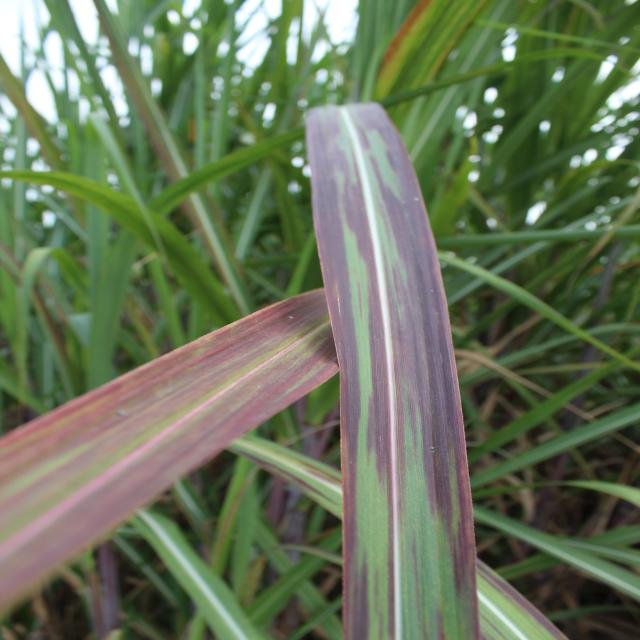Sugarcane: (17, 6, 189, 630), (309, 112, 477, 640), (214, 428, 626, 638), (429, 4, 638, 353), (163, 5, 325, 299), (3, 157, 240, 351), (359, 2, 515, 204), (438, 254, 638, 402), (124, 508, 290, 640), (470, 355, 639, 479), (81, 2, 190, 189), (237, 225, 640, 272), (471, 500, 640, 612), (533, 11, 640, 172), (488, 5, 578, 190), (360, 47, 627, 106), (487, 129, 636, 226), (0, 169, 184, 245), (138, 210, 241, 340), (0, 12, 71, 198), (15, 245, 91, 408), (569, 145, 640, 319), (152, 133, 310, 210), (80, 202, 139, 388), (455, 46, 519, 214), (238, 542, 342, 640), (472, 555, 586, 640), (226, 433, 342, 516), (450, 230, 575, 305), (192, 8, 244, 184), (256, 142, 316, 291), (161, 5, 216, 166), (399, 80, 475, 196), (76, 109, 147, 231), (251, 1, 301, 139), (454, 349, 566, 410), (209, 455, 258, 584), (232, 163, 283, 279), (438, 222, 634, 252), (340, 0, 396, 100), (472, 20, 630, 54), (428, 141, 480, 244), (527, 479, 637, 527), (0, 132, 23, 305), (282, 216, 320, 306)
